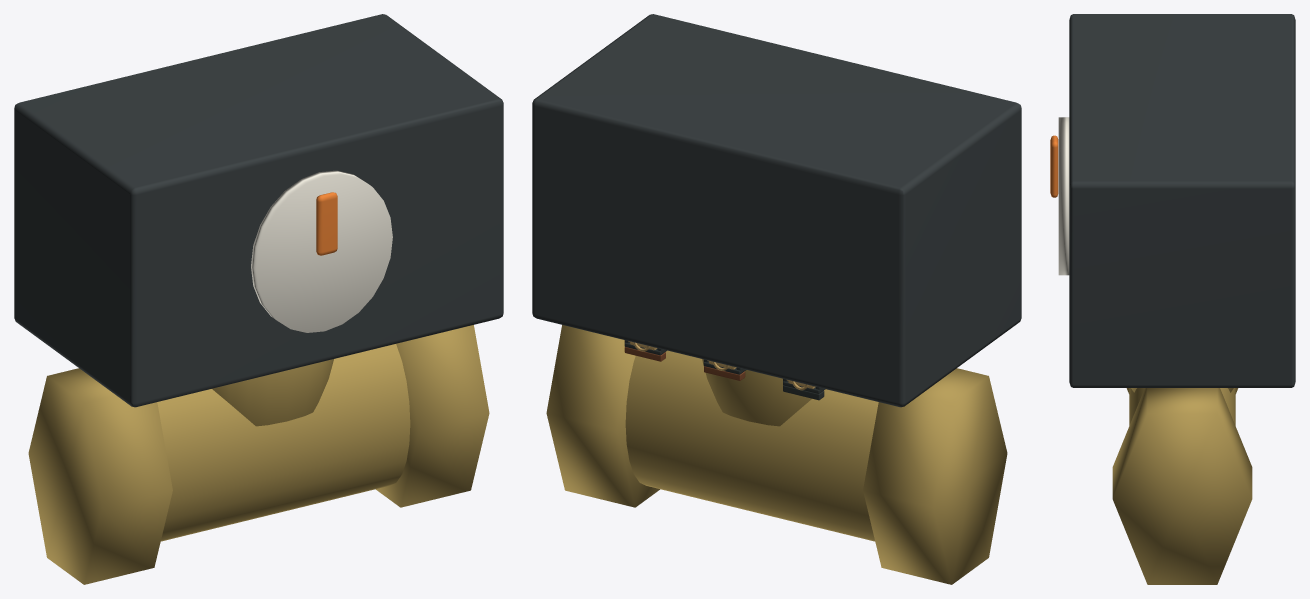
The model's file is floatvalve_default.glb.
The picture shows the model from 3 angles, left to right: view 1: azimuth 30°, elevation 25°; view 2: azimuth 150°, elevation 25°; view 3: azimuth 270°, elevation 25°; orthographic projection. The views are drawn at different scales.
Visible parts, largest first — view 1: node-8, node-3 · Original material, node-10, node-12; view 2: node-8, node-3 · Original material; view 3: node-8, node-3 · Original material, node-10, node-12.
Boxes of the visible parts, x1=… form: node-8: x1=14, y1=14, x2=503, y2=407; node-3 · Original material: x1=28, y1=325, x2=489, y2=584; node-10: x1=251, y1=170, x2=392, y2=332; node-12: x1=316, y1=192, x2=337, y2=255; node-8: x1=532, y1=14, x2=1021, y2=407; node-3 · Original material: x1=546, y1=325, x2=1007, y2=584; node-8: x1=1069, y1=14, x2=1295, y2=387; node-3 · Original material: x1=1112, y1=388, x2=1252, y2=584; node-10: x1=1058, y1=117, x2=1069, y2=275; node-12: x1=1050, y1=135, x2=1058, y2=197.
Size of the model in its own units: 1.01 by 1.06 by 0.5896.
